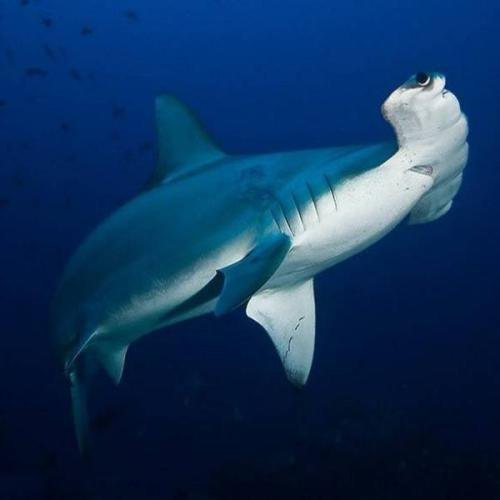shark-endangered: (46, 69, 472, 457)
